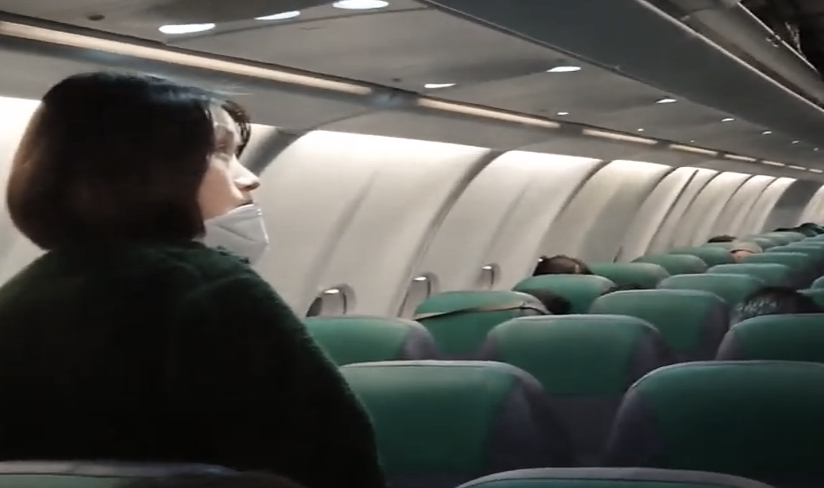mask_weared_incorrect: (111, 68, 273, 265)
